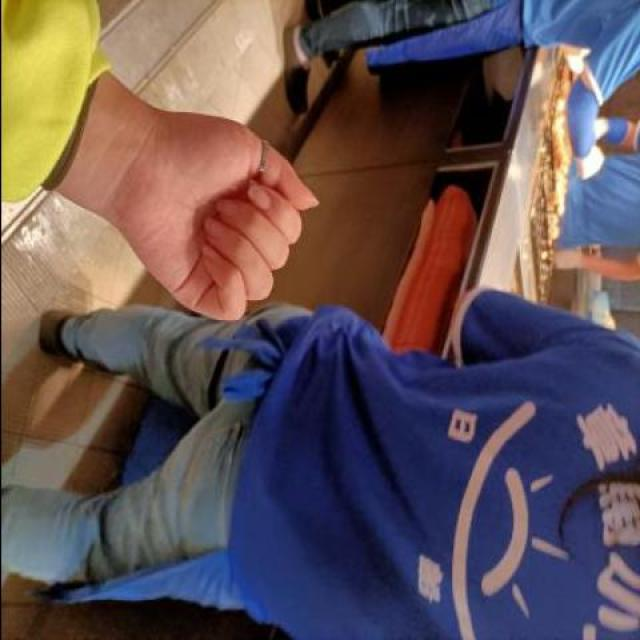Closed Hand: (108, 92, 324, 324)
